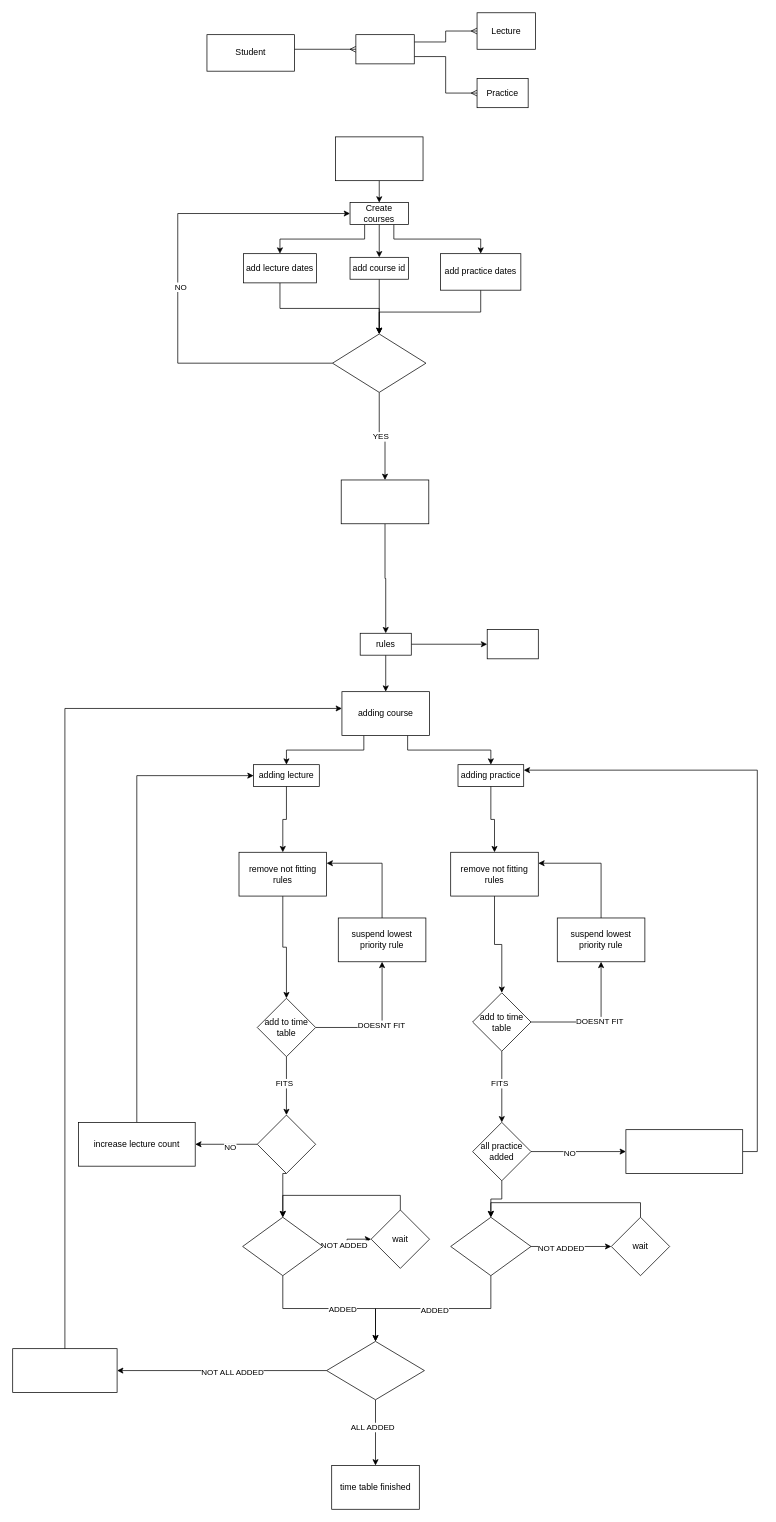
This 776x1522 diagram has some shape labels left out. The shapes that lost their labels are listed below. From the top down, each one's centre as x and y in pixels, then its label:
At point 384,49: "Course".
At point 379,158: "Creating time table".
At point 379,362: "all courses created".
At point 384,501: "create rules".
At point 512,644: "priority".
At point 286,1143: "all lectures added".
At point 684,1151: "increase practice count".
At point 282,1246: "check practice".
At point 490,1246: "check lectures".
At point 64,1370: "increase course count".
At point 375,1370: "check all courses".
